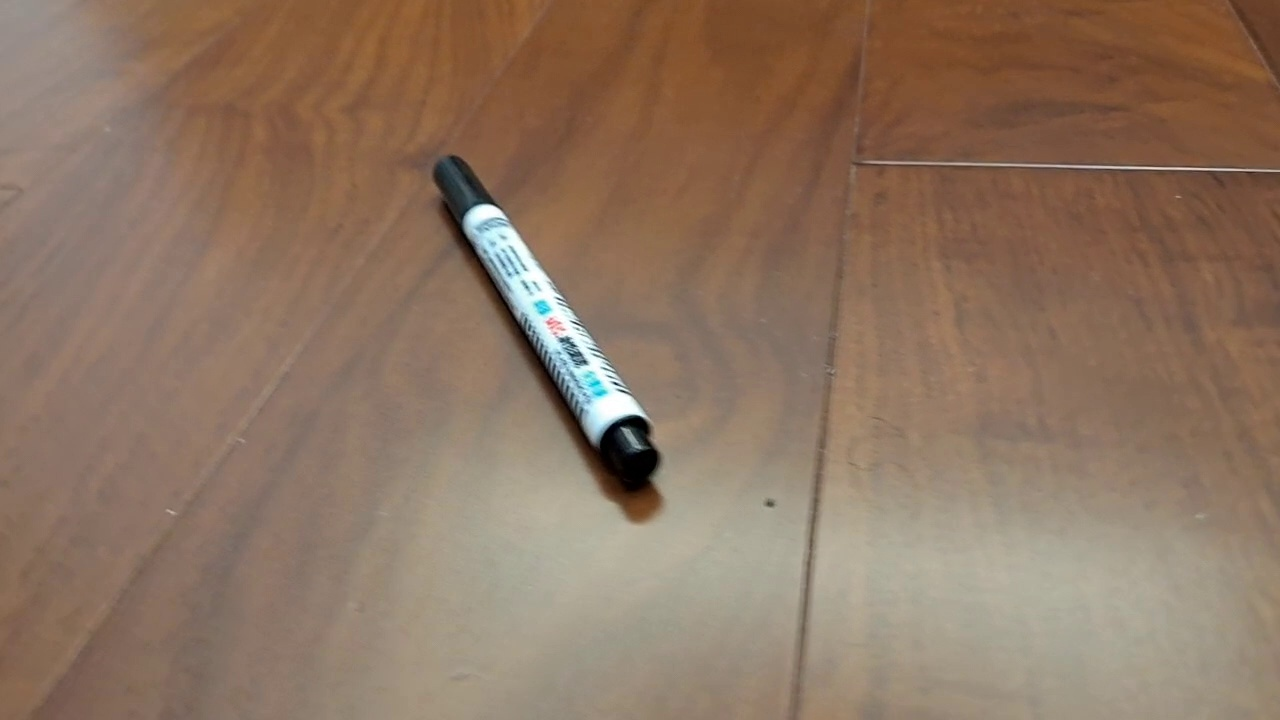pen: (431, 153, 664, 491)
